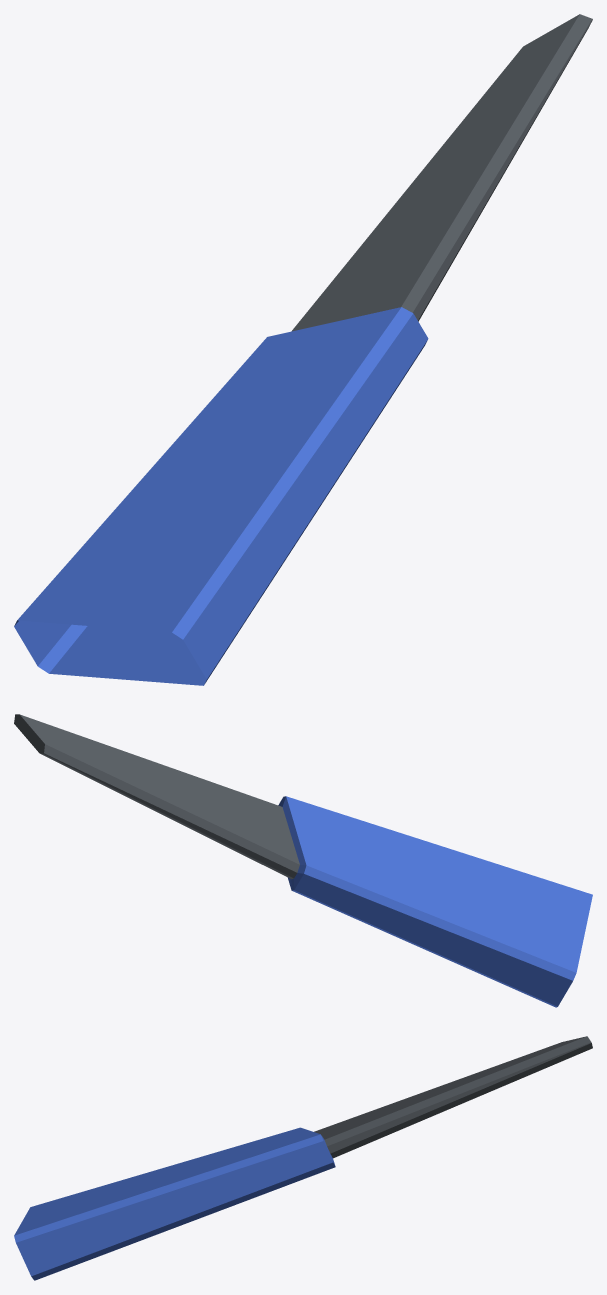
File: Dropship_05_Wing_Left_Blue.fbx
3 renders of one model, top to bottom at view 1: azimuth 30°, elevation 25°; view 2: azimuth 150°, elevation 25°; view 3: azimuth 330°, elevation 25°, orthographic. The views are drawn at different scales.
Visible parts, largest first — view 1: Dropship_05_Wing_Left_Blue; view 2: Dropship_05_Wing_Left_Blue; view 3: Dropship_05_Wing_Left_Blue.
Boxes of the visible parts, x1=… form: Dropship_05_Wing_Left_Blue: x1=14, y1=14, x2=592, y2=685; Dropship_05_Wing_Left_Blue: x1=14, y1=714, x2=592, y2=1007; Dropship_05_Wing_Left_Blue: x1=14, y1=1036, x2=592, y2=1280.
Size of the model in its own units: 452 by 234 by 274.
1 material, 1 textured.
